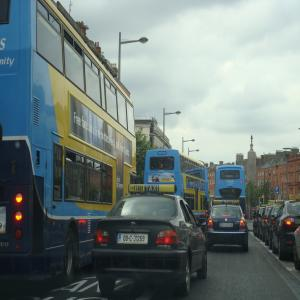Vehicle-registration-plate: (118, 232, 149, 244), (221, 223, 234, 228)
